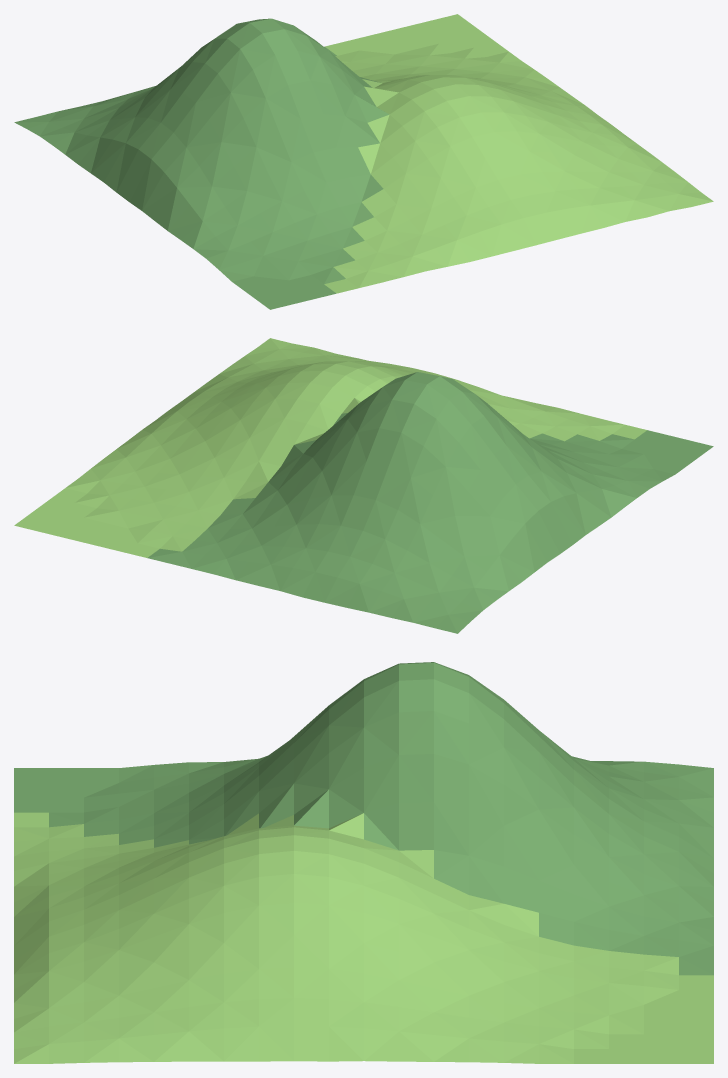
File: Morro1.2.fbx
The picture shows the model from 3 angles, top to bottom: view 1: azimuth 30°, elevation 25°; view 2: azimuth 150°, elevation 25°; view 3: azimuth 270°, elevation 25°; orthographic projection. The views are drawn at different scales.
Parts seen in each view (by area): view 1: Morros; view 2: Morros; view 3: Morros.
Boxes of the visible parts, x1,y1,x2,y2 form: Morros: (14,14,713,309); Morros: (14,338,713,633); Morros: (14,662,713,1063).
Bounding box in the file's own units: 1000 × 309 × 1000.
